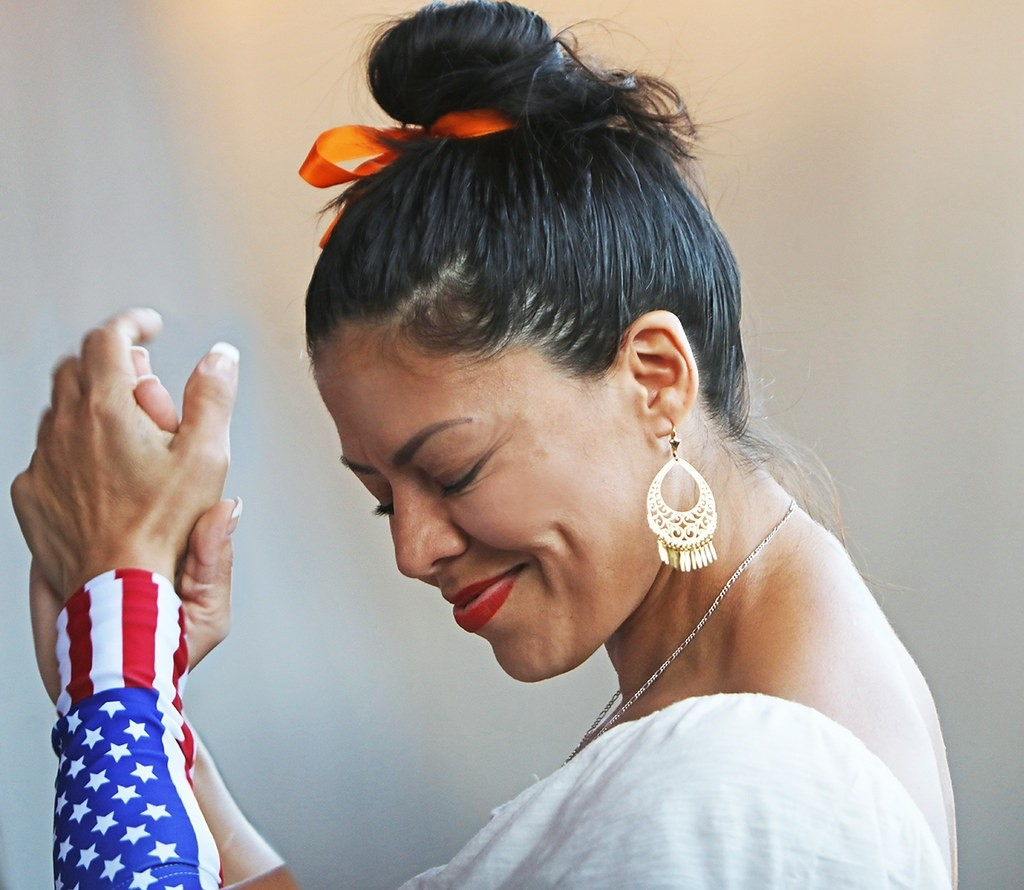face_no_mask: (308, 17, 745, 688)
